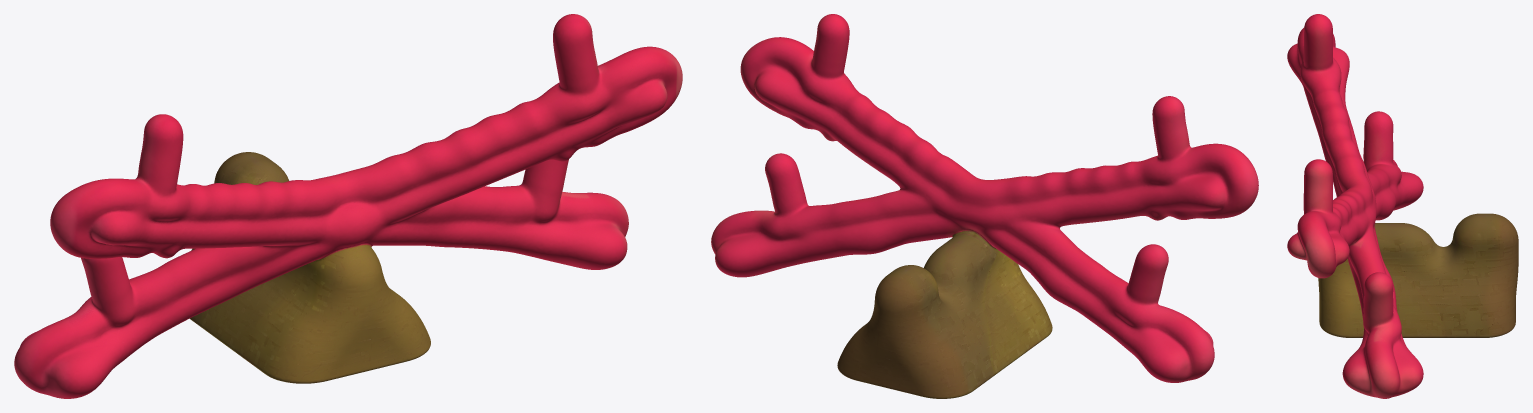
The model's file is Balancin.glb.
3 views of the same model, side by side, from view 1: azimuth 30°, elevation 25°; view 2: azimuth 150°, elevation 25°; view 3: azimuth 270°, elevation 25° (orthographic). The views are drawn at different scales.
Parts seen in each view (by area): view 1: Mesh_0.001; view 2: Mesh_0.001; view 3: Mesh_0.001.
Part boxes in pixels (<box>): Mesh_0.001: <box>14,14,682,398</box>; Mesh_0.001: <box>711,14,1258,398</box>; Mesh_0.001: <box>1287,14,1518,398</box>.
Size of the model in its own units: 2.14 by 1 by 0.9421.
Materials: 1 (1 with a texture image).
